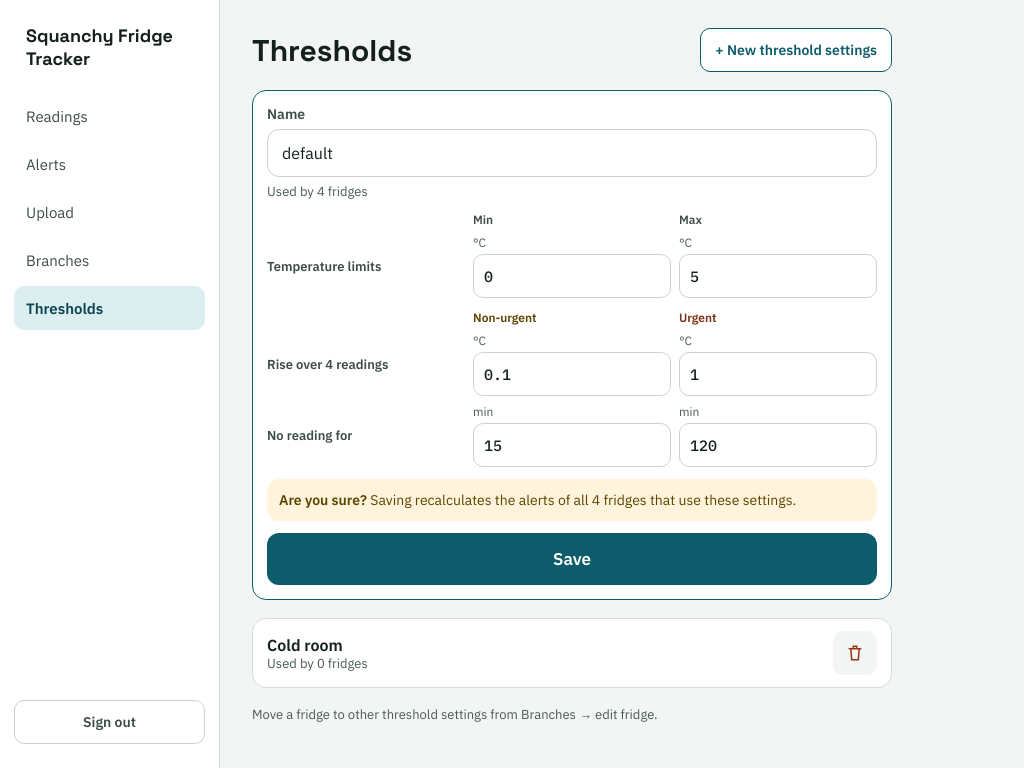
it: ThresholdsPage delete › deletes unused threshold settings after the user confirms
Click the button named "Delete threshold settings Cold room". click: (855,653)
box: [833,631,877,675]
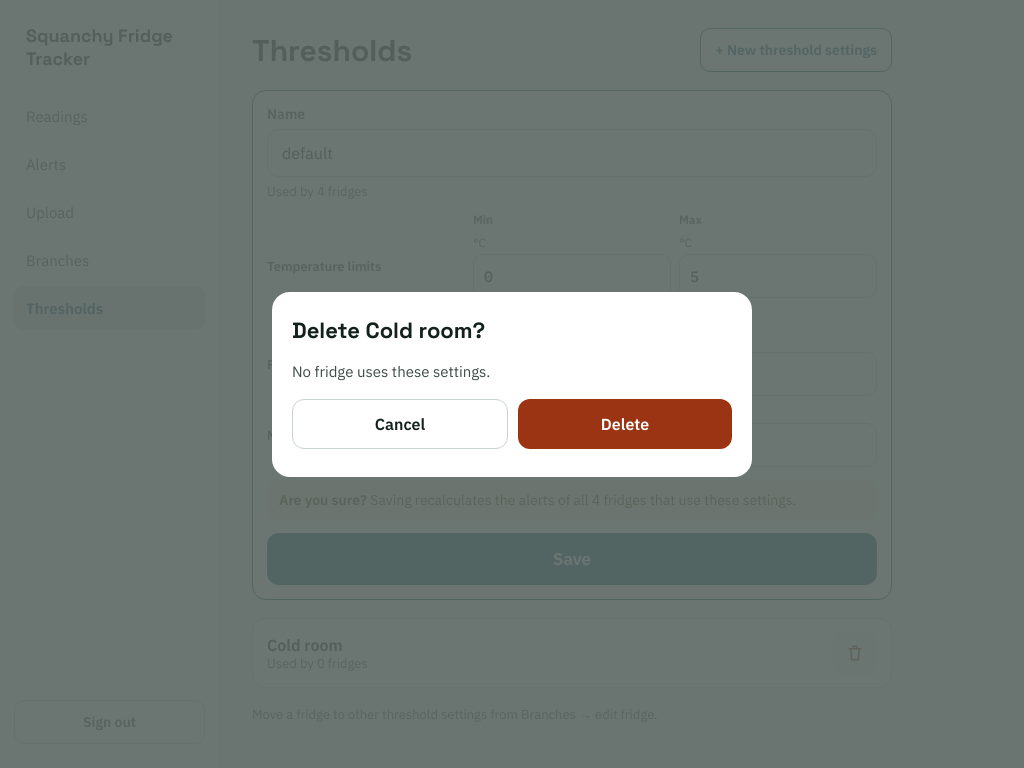
Click the button "Delete". click: (625,424)
box: [518,398,732,448]
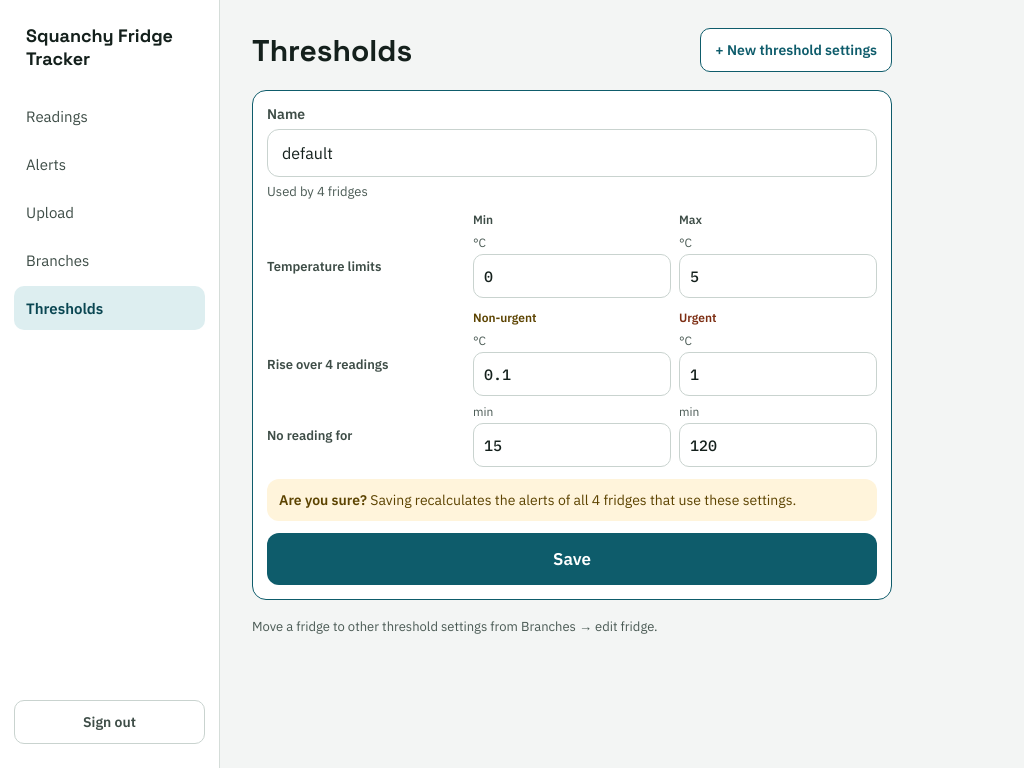
Expected: the button "Cold room" is gone
Expected: the dialog is gone
